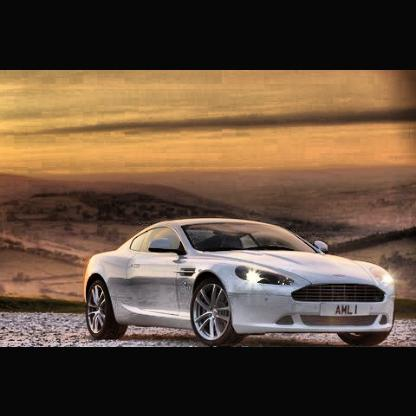Aston Martin V8 Vantage Coupe 2012: (70, 204, 408, 347)
